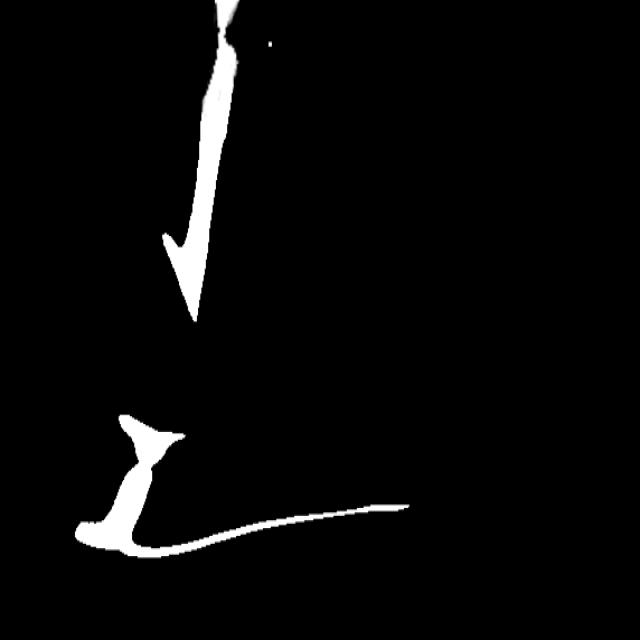sl: (210, 0, 241, 69)
